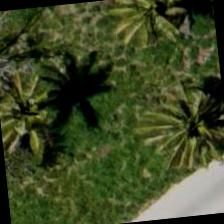Kelapa_Sawit: (0, 65, 69, 162)
